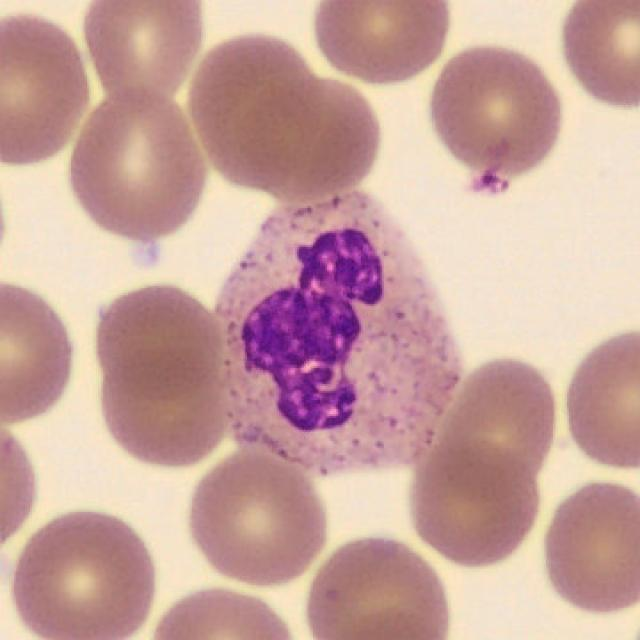Neutrofilo segmentado: (217, 190, 464, 478)
